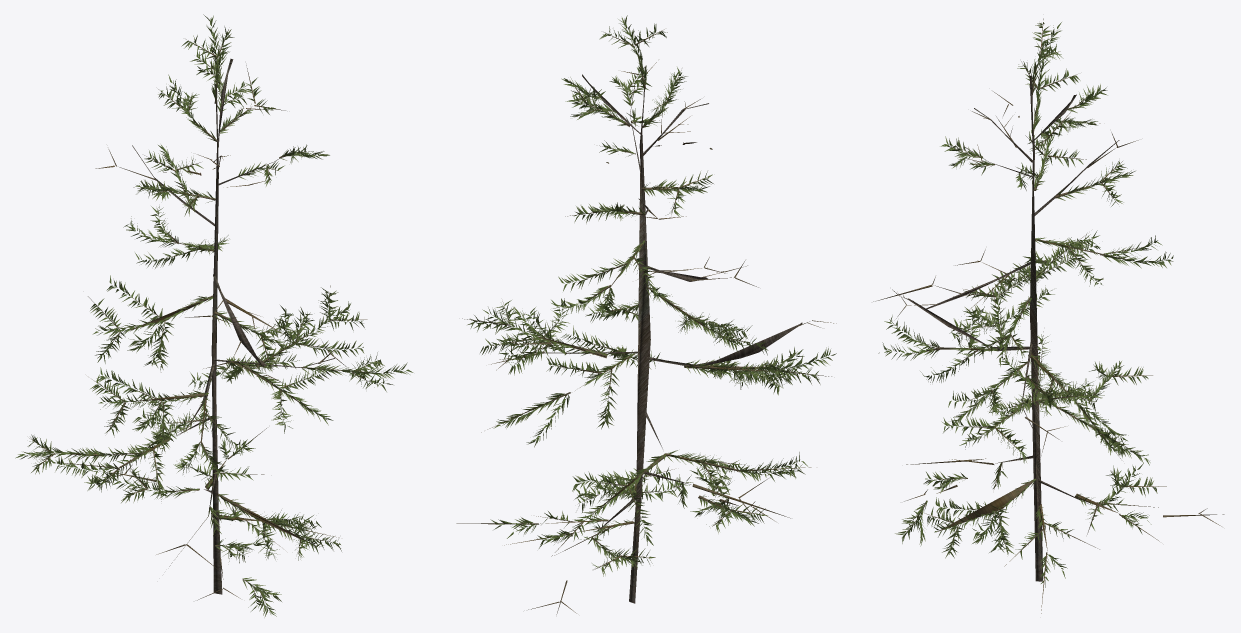
3 renders of one model, left to right at view 1: azimuth 30°, elevation 25°; view 2: azimuth 150°, elevation 25°; view 3: azimuth 270°, elevation 25°, orthographic. The views are drawn at different scales.
Parts seen in each view (by area): view 1: fir_sapling_a; view 2: fir_sapling_a; view 3: fir_sapling_a.
Boxes of the visible parts, bbox=[...] form: fir_sapling_a: bbox=[15, 14, 413, 617]; fir_sapling_a: bbox=[456, 15, 836, 614]; fir_sapling_a: bbox=[873, 18, 1224, 613].
Size of the model in its own units: 0.769 by 1.24 by 0.7206.
2 materials, 2 textured.
